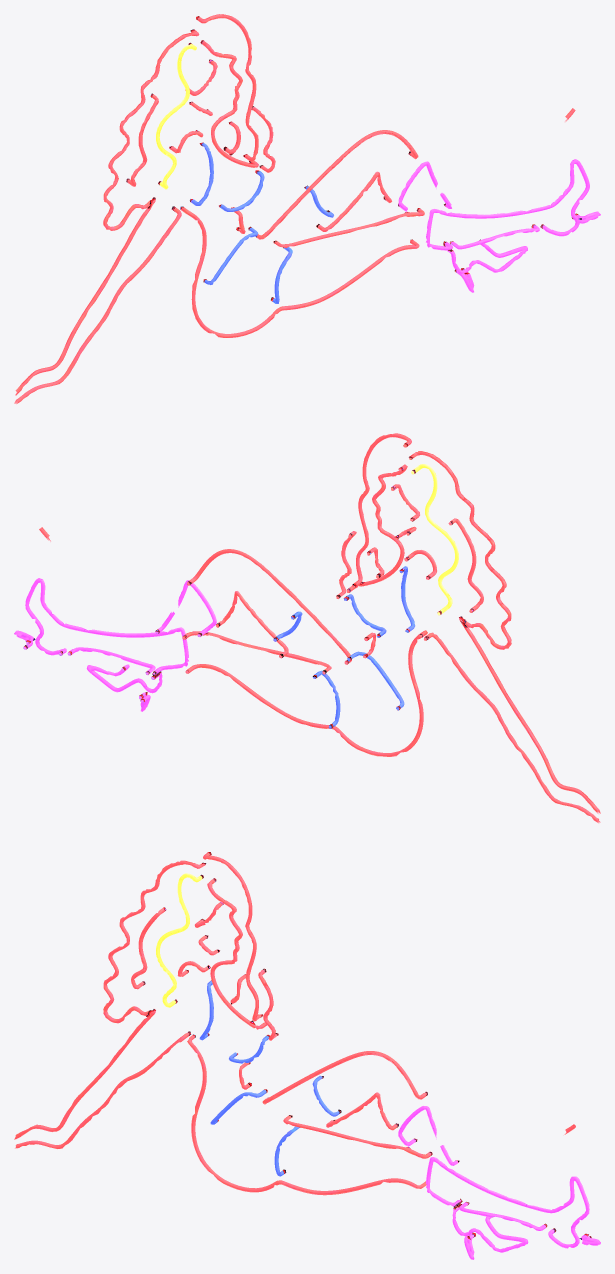
Rendered from vegas_girl.glb.
The picture shows the model from 3 angles, top to bottom: view 1: azimuth 30°, elevation 25°; view 2: azimuth 150°, elevation 25°; view 3: azimuth 330°, elevation 25°; orthographic projection.
Parts seen in each view (by area): view 1: vegas_girl; view 2: vegas_girl; view 3: vegas_girl.
Part boxes in pixels (x1=…): vegas_girl: x1=14, y1=14, x2=600, y2=403; vegas_girl: x1=14, y1=433, x2=600, y2=823; vegas_girl: x1=14, y1=852, x2=600, y2=1259.
Size of the model in its own units: 3 by 1.66 by 0.0816.
1 material, 1 textured.
